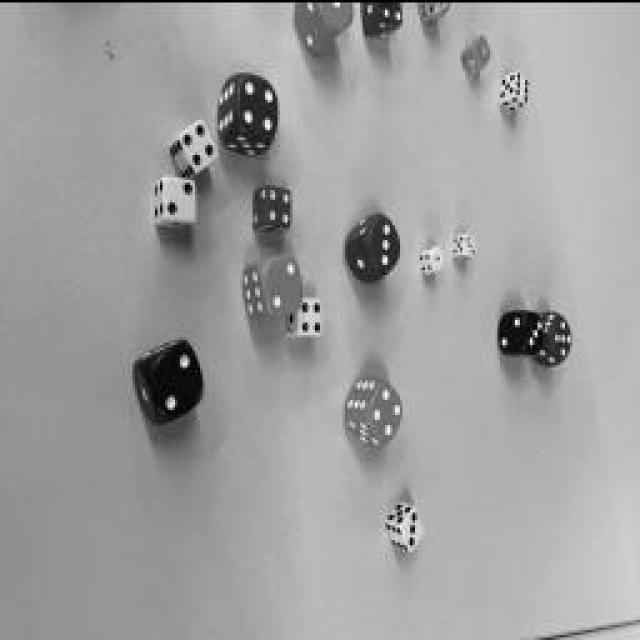dice_1: (431, 245, 444, 267)
dice_2: (141, 335, 204, 420), (262, 252, 302, 312), (165, 175, 197, 220)
dice_3: (370, 216, 400, 274), (400, 505, 425, 550), (526, 310, 544, 352), (465, 232, 475, 252)
dice_4: (238, 72, 278, 138), (179, 116, 219, 172), (370, 381, 402, 439), (266, 183, 292, 225), (298, 296, 322, 334)
dice_5: (554, 315, 571, 357)
dice_6: (515, 70, 530, 102)
